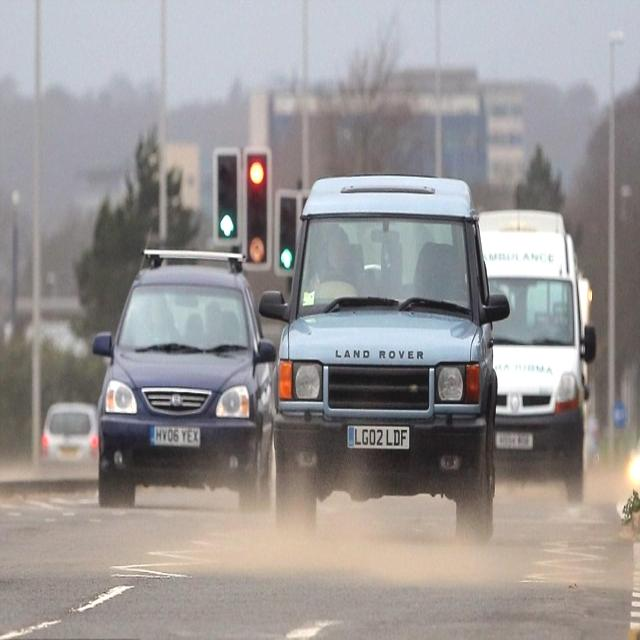Car: (272, 170, 494, 538), (92, 248, 270, 502)
Truck: (481, 204, 588, 492)
